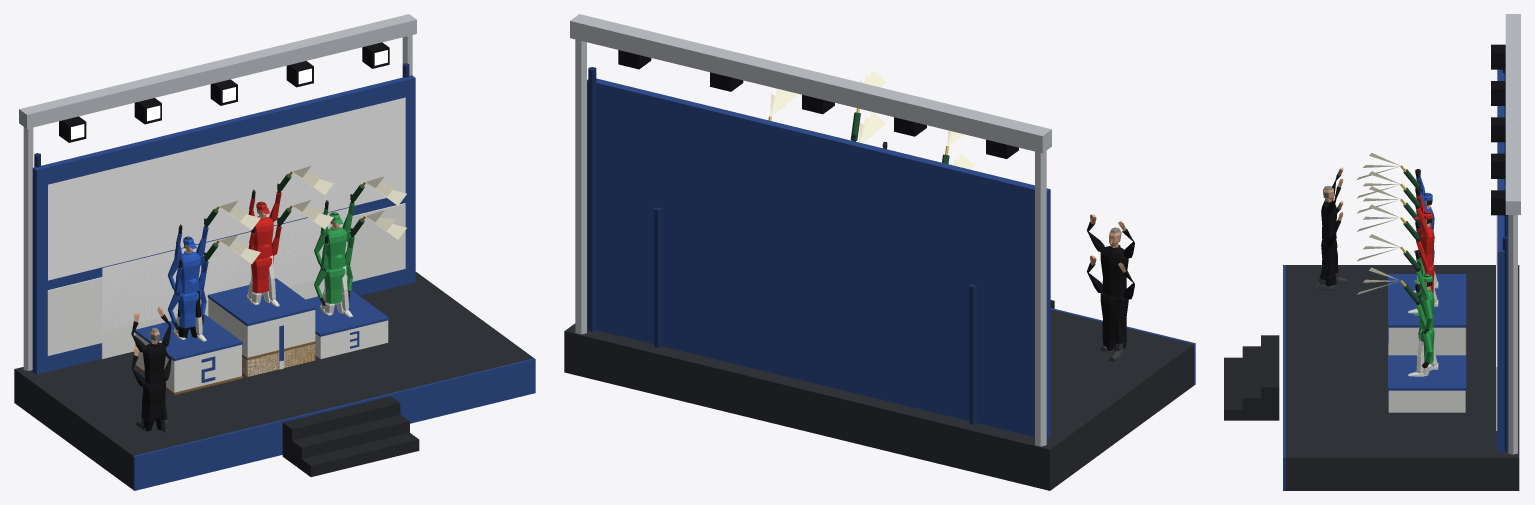
The model's file is podium.glb.
The picture shows the model from 3 angles, left to right: view 1: azimuth 30°, elevation 25°; view 2: azimuth 150°, elevation 25°; view 3: azimuth 270°, elevation 25°; orthographic projection. The views are drawn at different scales.
Parts seen in each view (by area): view 1: StageSX, WordsSX, WordsMX, RidersSXChampagne, RidersMXChampagne, StageMX, RidersMXRiders; view 2: StageSX, StageMX, RidersSXChampagne, RidersMXChampagne; view 3: StageSX, RidersSXChampagne, RidersMXChampagne.
Part boxes in pixels (x1,y1,x2,y2): StageSX: (14,14,535,490); WordsSX: (48,97,405,280); WordsMX: (102,208,351,331); RidersSXChampagne: (131,166,406,432); RidersMXChampagne: (131,200,406,431); StageMX: (90,204,361,395); RidersMXRiders: (167,265,352,329); StageSX: (564,14,1195,490); StageMX: (652,207,980,424); RidersSXChampagne: (768,70,1134,361); RidersMXChampagne: (859,112,1134,350); StageSX: (1224,14,1520,490); RidersSXChampagne: (1316,153,1438,376); RidersMXChampagne: (1321,186,1434,375).
Size of the model in its own units: 7.4 by 5.15 by 4.82.
